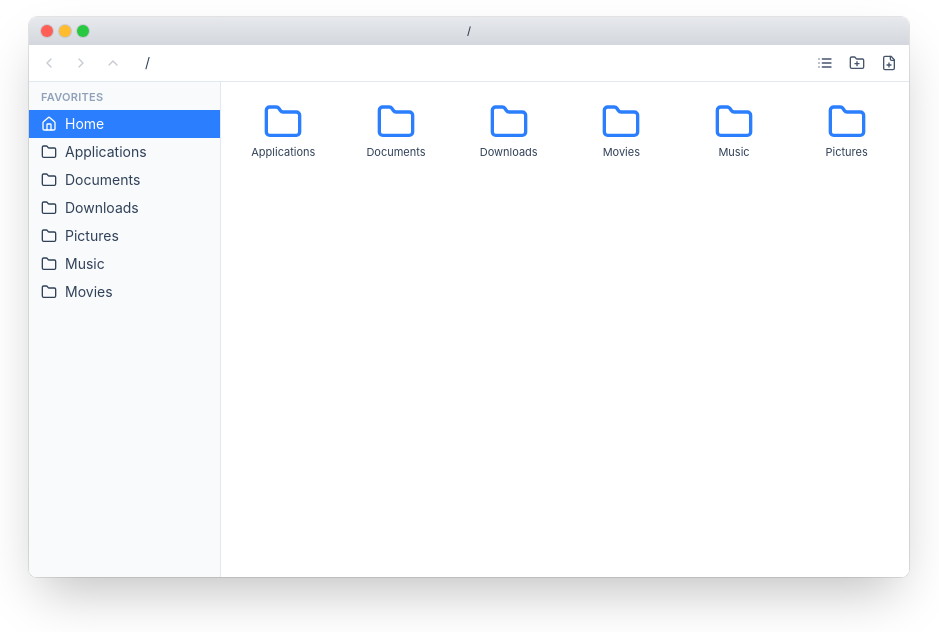
Finder › toolbar "new folder" creates a node in the current folder
This screenshot has width=939, height=632.
Click the button with test id "finder-new-folder" at (857, 63), box x1=845 y1=51 x2=869 y2=75
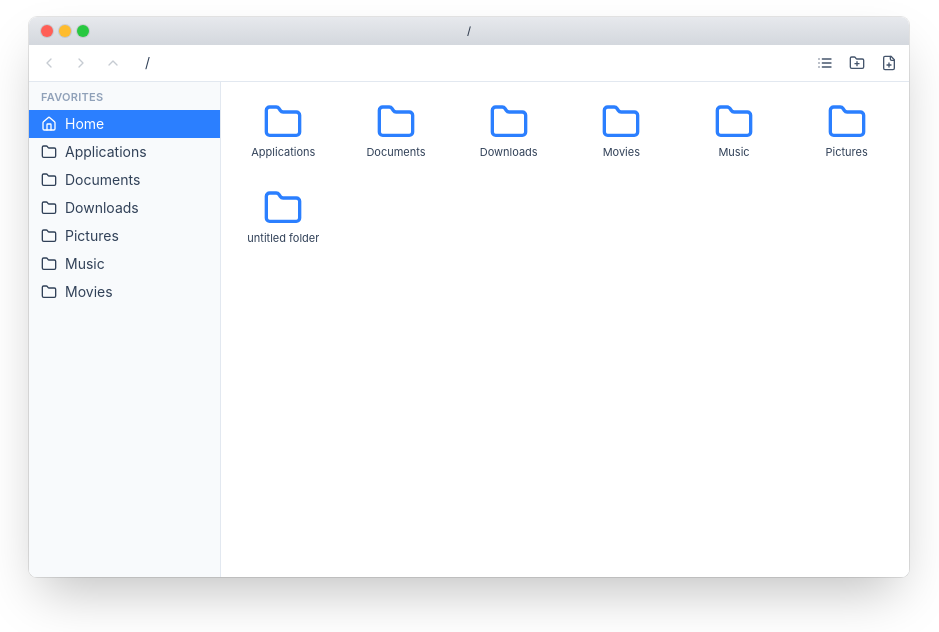
Check: the text "untitled folder" is shown, box x1=247 y1=232 x2=319 y2=246
